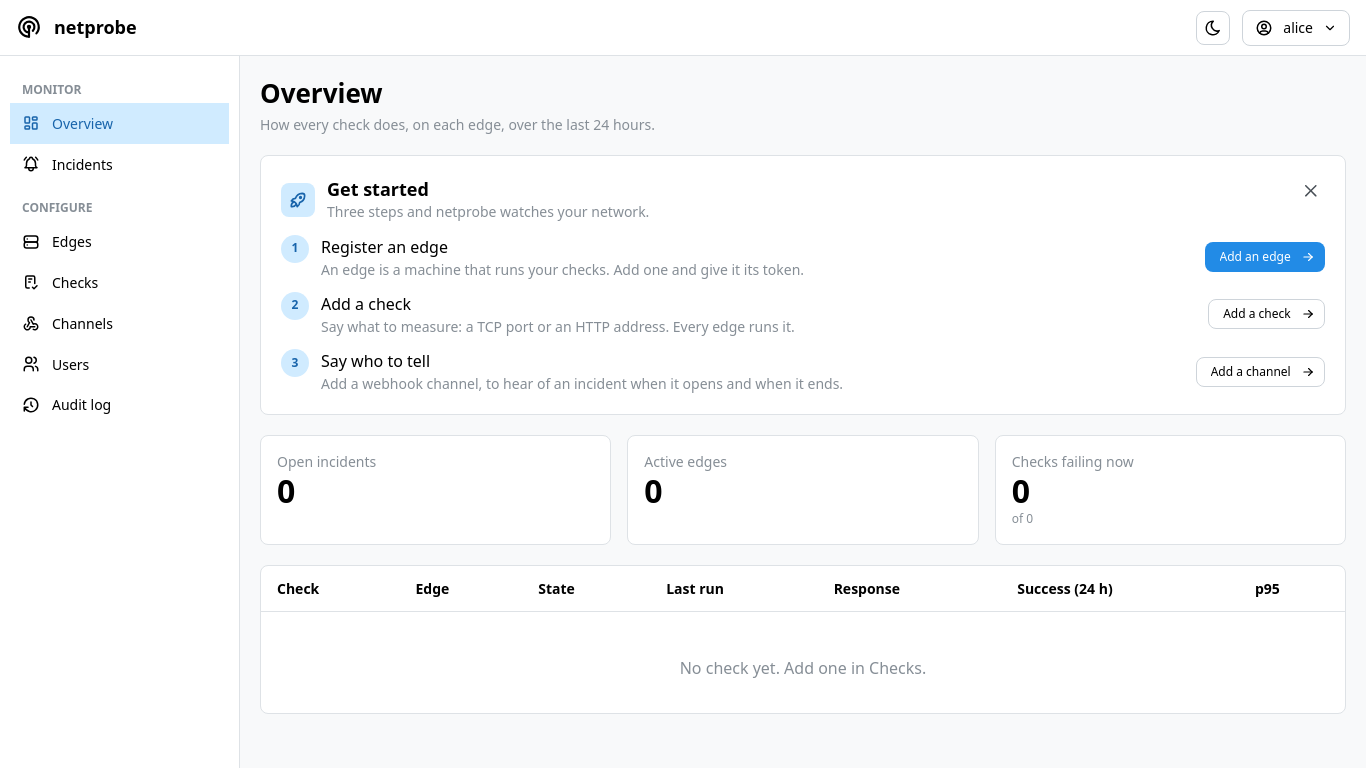
it: signing in › signs out
Step 1. Click the button "alice" → (1296,28), box left=1242, top=10, right=1350, bottom=46
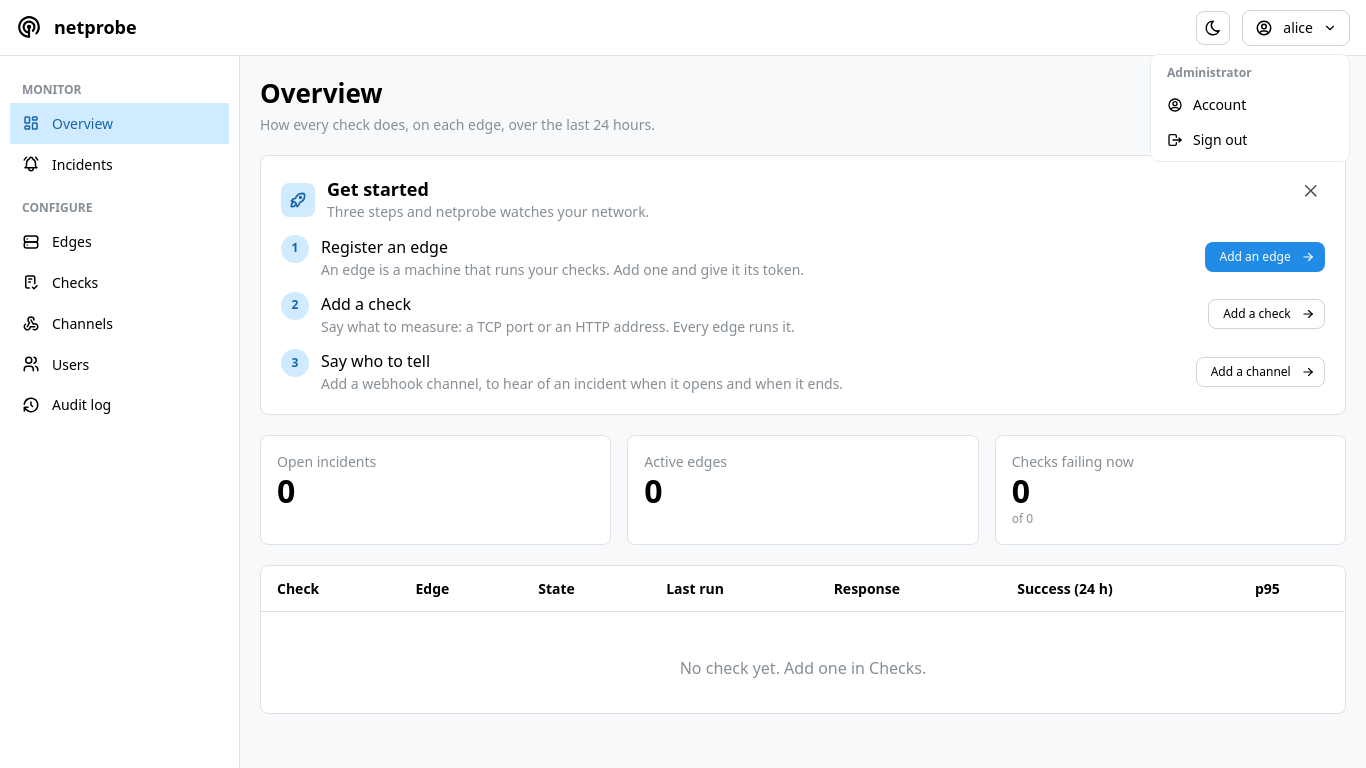
Step 2. Click the menu item "Sign out" → (1250,140), box left=1155, top=122, right=1345, bottom=157
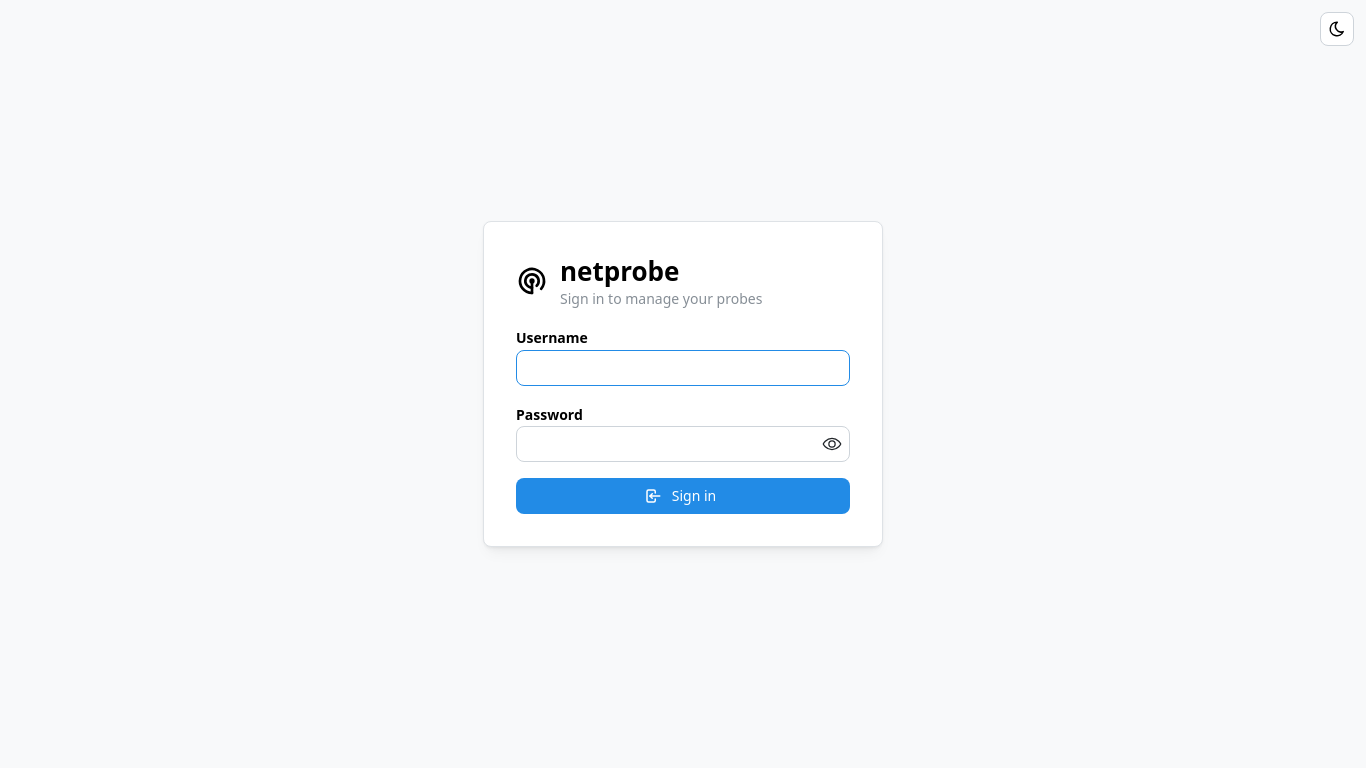
Result: the button "Sign in" is shown at left=516, top=478, right=850, bottom=514
